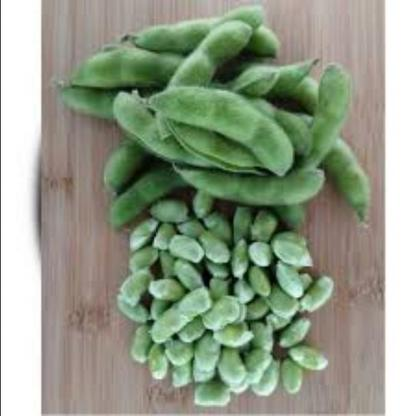beans: (89, 4, 362, 212), (108, 207, 326, 416)
